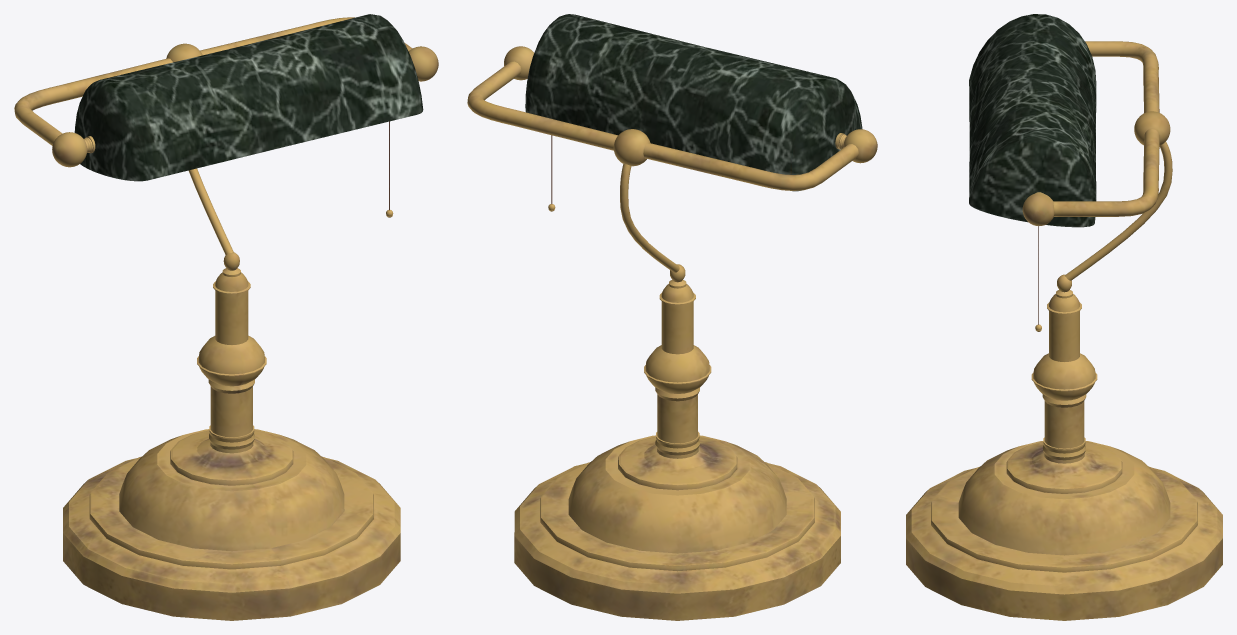
File: desk_lamp.glb
3 renders of one model, left to right at view 1: azimuth 30°, elevation 25°; view 2: azimuth 150°, elevation 25°; view 3: azimuth 270°, elevation 25°, orthographic. The views are drawn at different scales.
Parts seen in each view (by area): view 1: Sphere004; view 2: Sphere004; view 3: Sphere004.
Boxes of the visible parts, <box> form: Sphere004: <box>14,14,438,620</box>; Sphere004: <box>467,14,877,620</box>; Sphere004: <box>906,14,1222,620</box>.
Size of the model in its own units: 1.57 by 2 by 1.2.
1 material, 1 textured.
